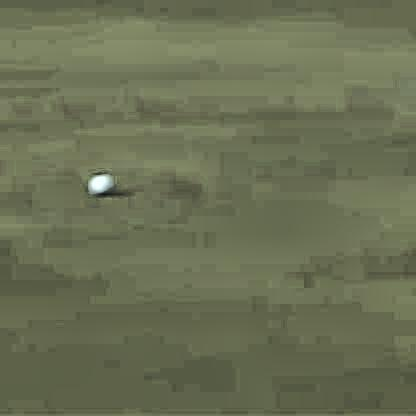golfball: (85, 172, 113, 196)
